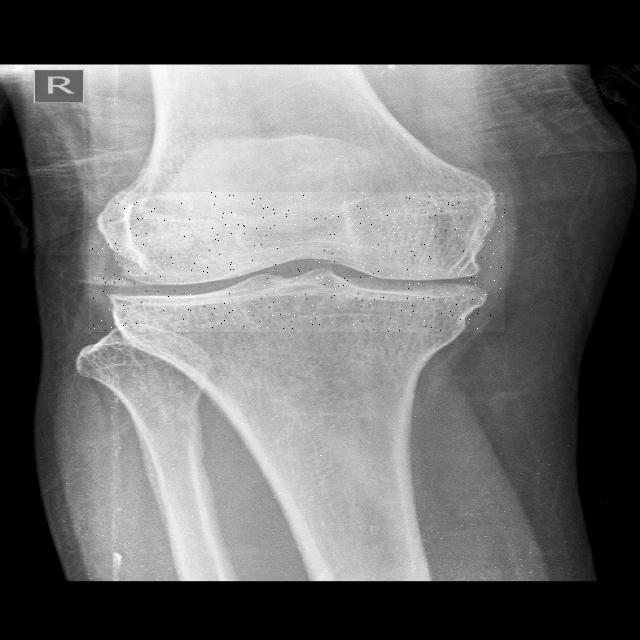osteo: (89, 192, 505, 332)
